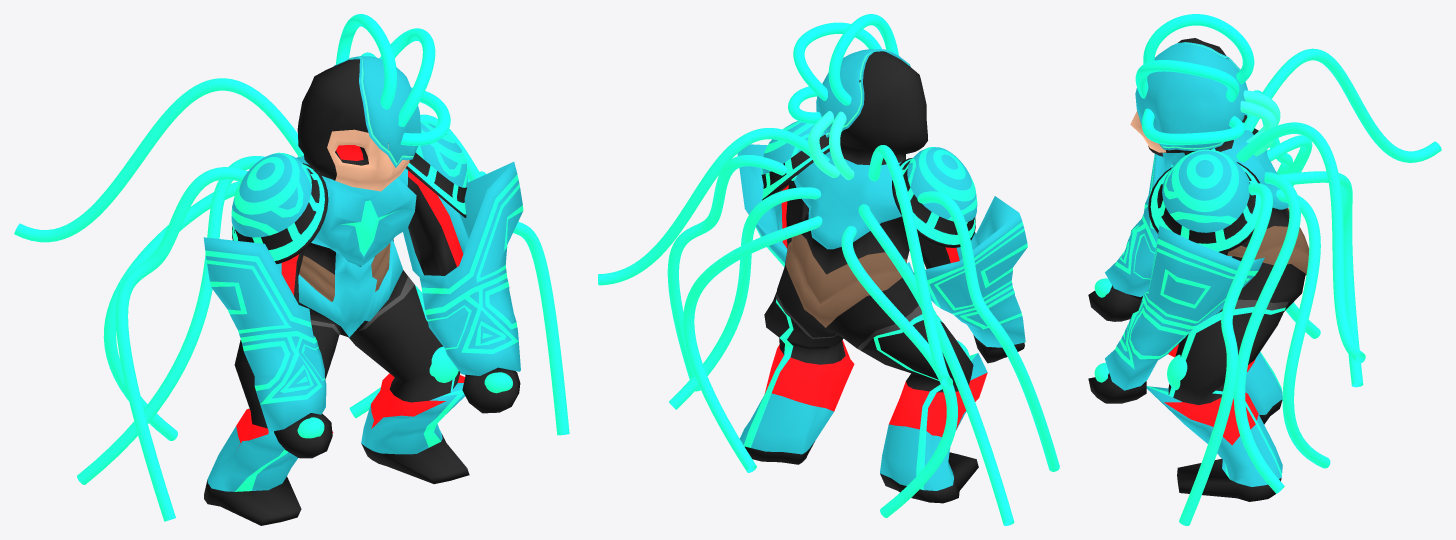
File: anoma.fbx
3 views of the same model, side by side, from view 1: azimuth 30°, elevation 25°; view 2: azimuth 150°, elevation 25°; view 3: azimuth 270°, elevation 25° (orthographic). The views are drawn at different scales.
Visible parts, largest first — view 1: Cube, Mesh.001, Mesh, Sphere; view 2: Cube, Mesh.001, Mesh, Sphere, Mesh.002; view 3: Cube, Mesh.001, Sphere, Mesh, Mesh.002.
Part boxes in pixels (x1,y1,x2,y2): Cube: (203,59,523,525); Mesh.001: (14,52,569,521); Mesh: (336,14,450,145); Sphere: (333,55,421,167); Cube: (737,51,1027,503); Mesh.001: (598,128,1059,525); Mesh: (788,14,898,123); Sphere: (816,49,910,137); Mesh.002: (808,111,854,180); Cube: (1088,38,1309,501); Mesh.001: (1179,48,1441,525); Sphere: (1135,42,1247,150); Mesh: (1135,14,1254,145); Mesh.002: (1240,90,1280,156).
Bounding box in the file's own units: 803 × 840 × 612.
